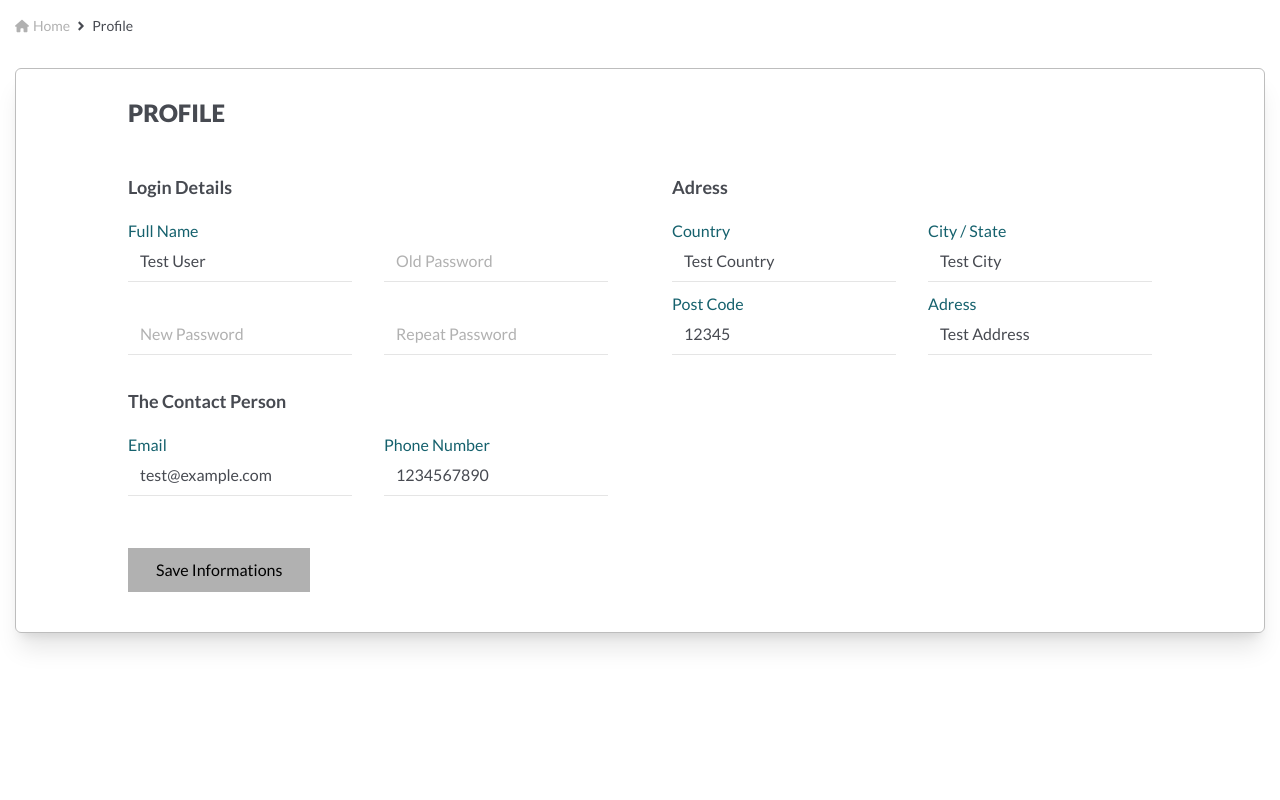
Test case: Profile Component › displays error message for wrong old password
Type "wrongpassword" into the password field labelled "old password". click: (496, 262)
box: left=384, top=241, right=608, bottom=282
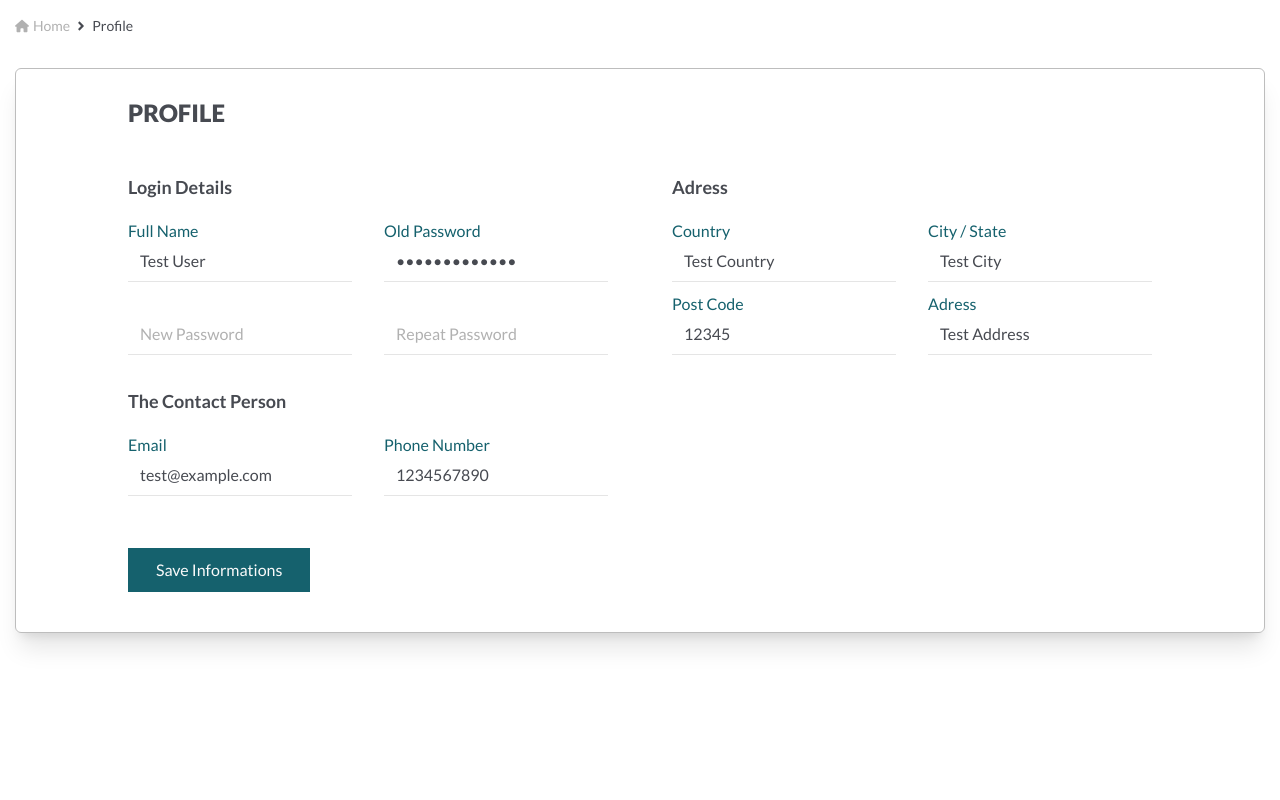
Click the button. click: (219, 570)
box: left=128, top=548, right=310, bottom=592
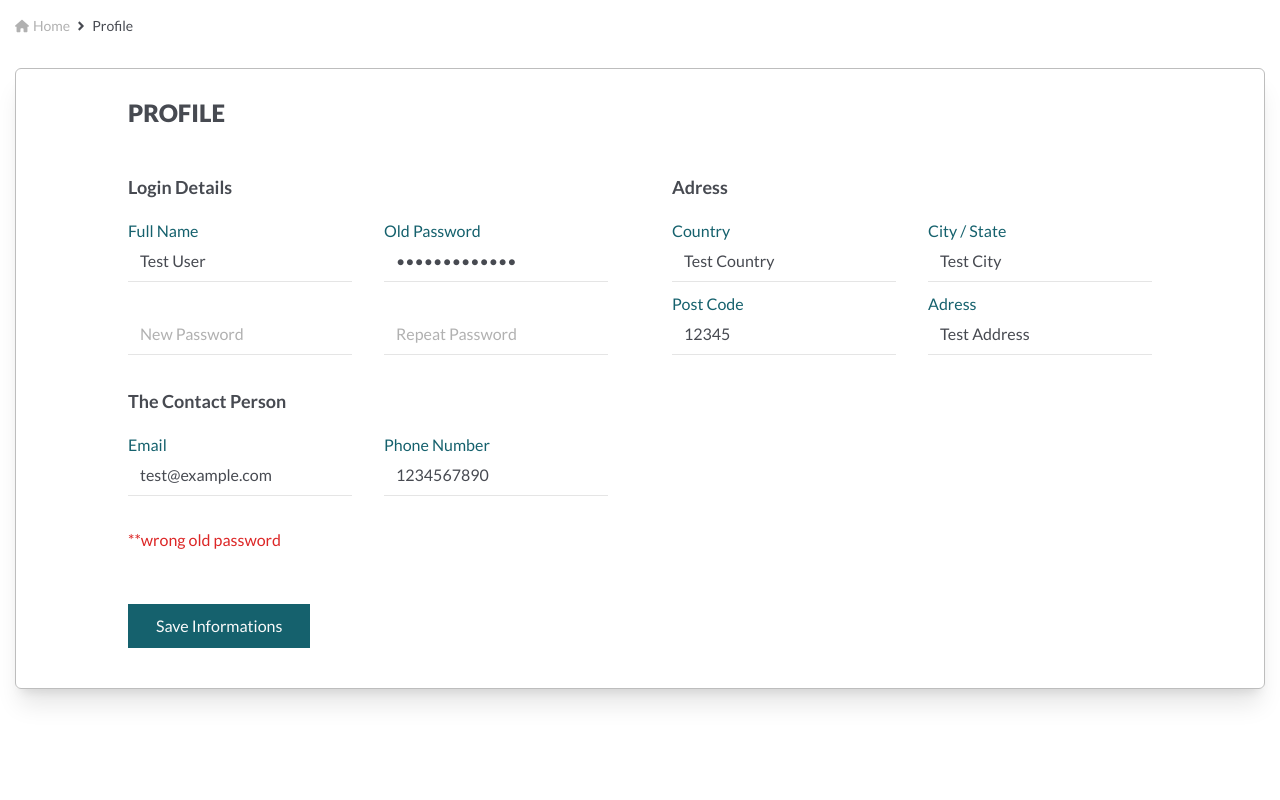
Now the text "**wrong old password" is shown, box left=128, top=528, right=281, bottom=552
